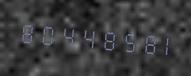eight: (93, 19, 111, 57), (17, 13, 35, 50), (131, 23, 149, 60)
five: (112, 21, 130, 58)
four: (55, 16, 73, 53), (74, 18, 92, 55)
one: (150, 24, 168, 62)
zero: (36, 14, 54, 52)
